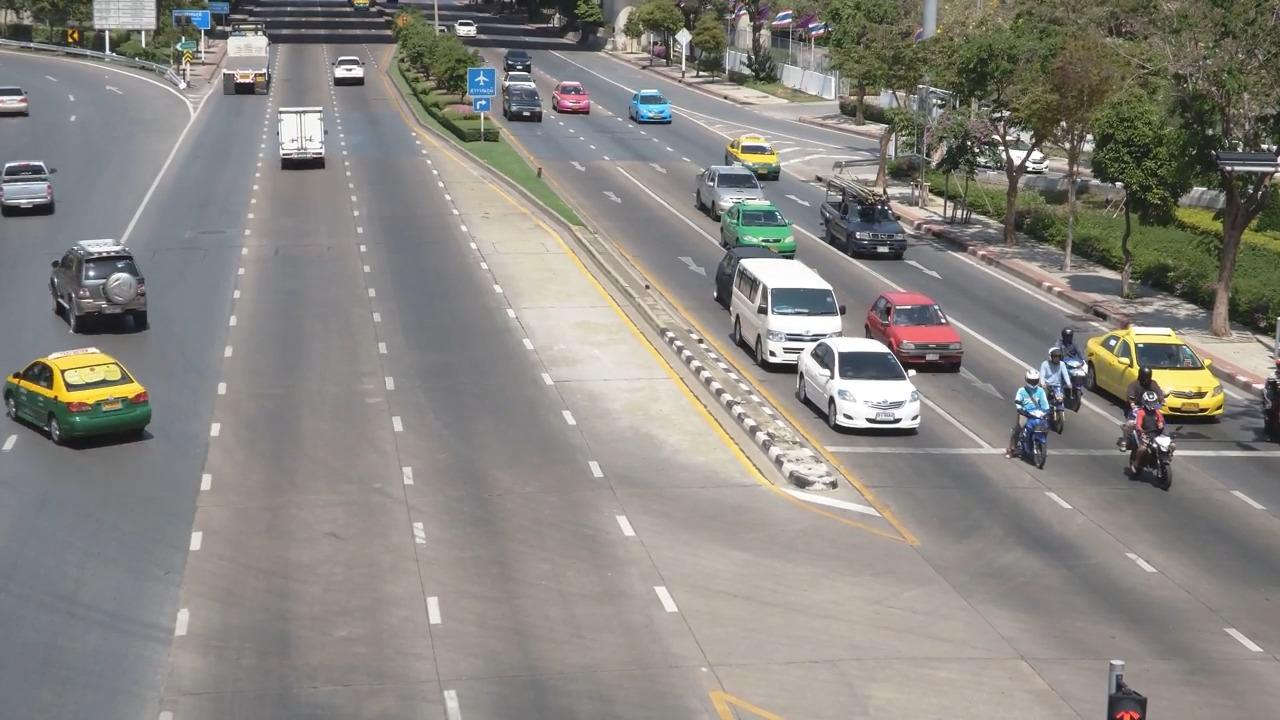CAR: (2, 340, 176, 468), (1083, 310, 1227, 425), (796, 332, 934, 439), (733, 252, 846, 372), (39, 237, 168, 342), (866, 274, 977, 373), (823, 179, 912, 261), (265, 98, 341, 182), (0, 155, 69, 232), (717, 198, 804, 259), (701, 159, 770, 214), (715, 135, 788, 180), (321, 50, 385, 101), (620, 85, 676, 133), (494, 80, 541, 135), (542, 75, 597, 120), (0, 78, 47, 128), (501, 43, 542, 75)
HGV_BUS: (214, 22, 285, 109)
MOTOR: (1110, 392, 1176, 492), (997, 367, 1059, 454), (1035, 345, 1081, 436), (1047, 313, 1094, 390)
